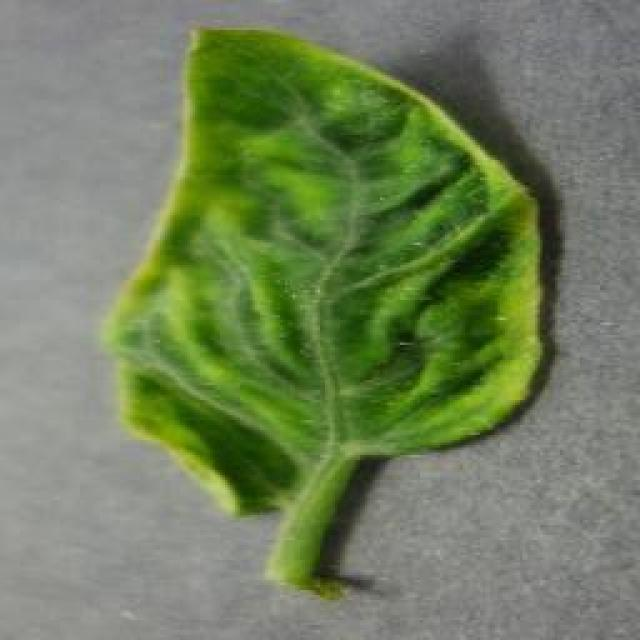Tomato yellow virus leaf: (108, 21, 545, 516)
